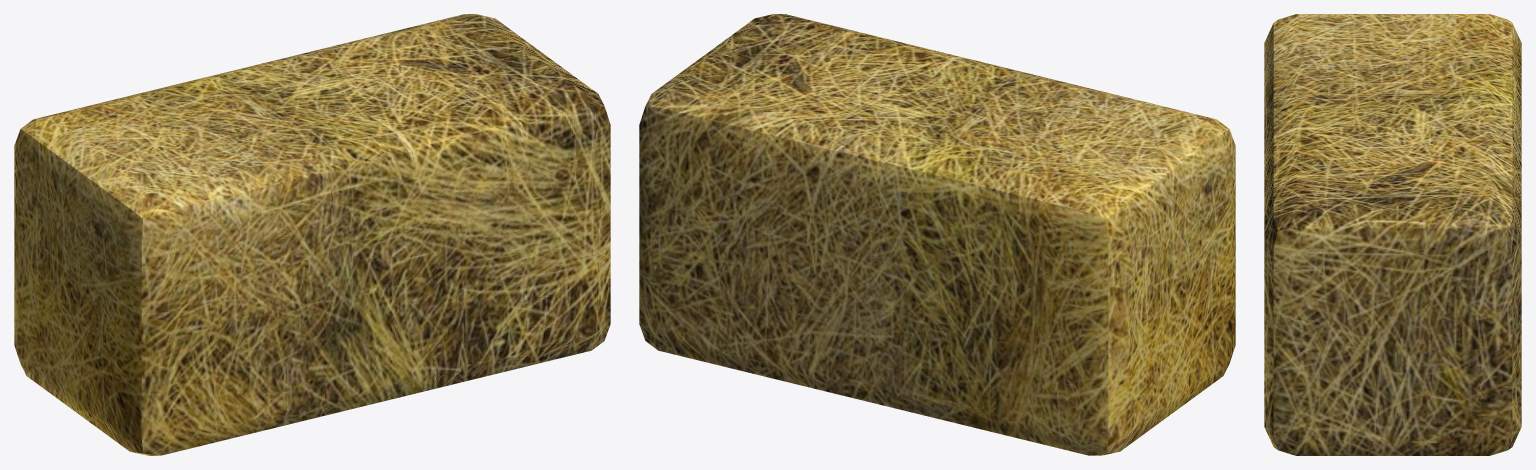
The model's file is hayBail.fbx.
3 views of the same model, side by side, from view 1: azimuth 30°, elevation 25°; view 2: azimuth 150°, elevation 25°; view 3: azimuth 270°, elevation 25° (orthographic). The views are drawn at different scales.
Visible parts, largest first — view 1: pCube333; view 2: pCube333; view 3: pCube333.
Boxes of the visible parts, bbox=[...] form: pCube333: bbox=[14, 14, 610, 455]; pCube333: bbox=[639, 14, 1235, 455]; pCube333: bbox=[1264, 14, 1521, 455].
Bounding box in the file's own units: 3.72 × 1.92 × 1.83.
1 material, 1 textured.
